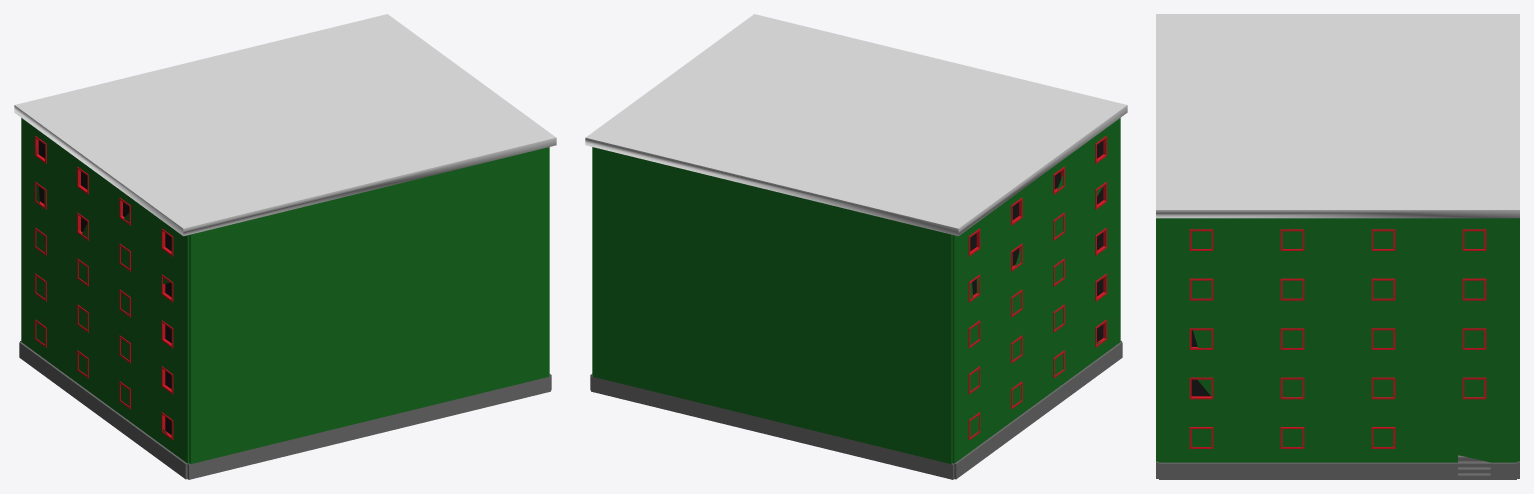
3 views of the same model, side by side, from view 1: azimuth 30°, elevation 25°; view 2: azimuth 150°, elevation 25°; view 3: azimuth 270°, elevation 25° (orthographic). The views are drawn at different scales.
Parts seen in each view (by area): view 1: BR20_F05_06; view 2: BR20_F05_06; view 3: BR20_F05_06.
Part boxes in pixels (left/top/right/bottom): BR20_F05_06: left=14, top=14, right=556, bottom=479; BR20_F05_06: left=585, top=14, right=1127, bottom=479; BR20_F05_06: left=1156, top=14, right=1519, bottom=479.
Bounding box in the file's own units: 2550 × 1650 × 2000.
